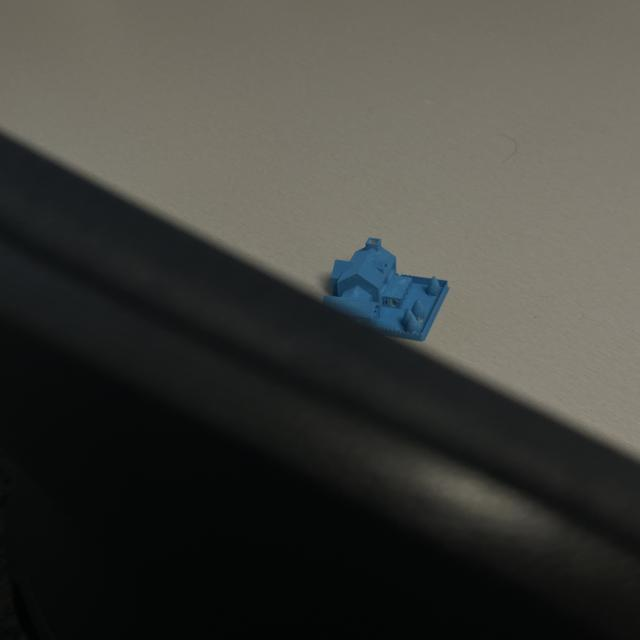house: (318, 233, 453, 344)
